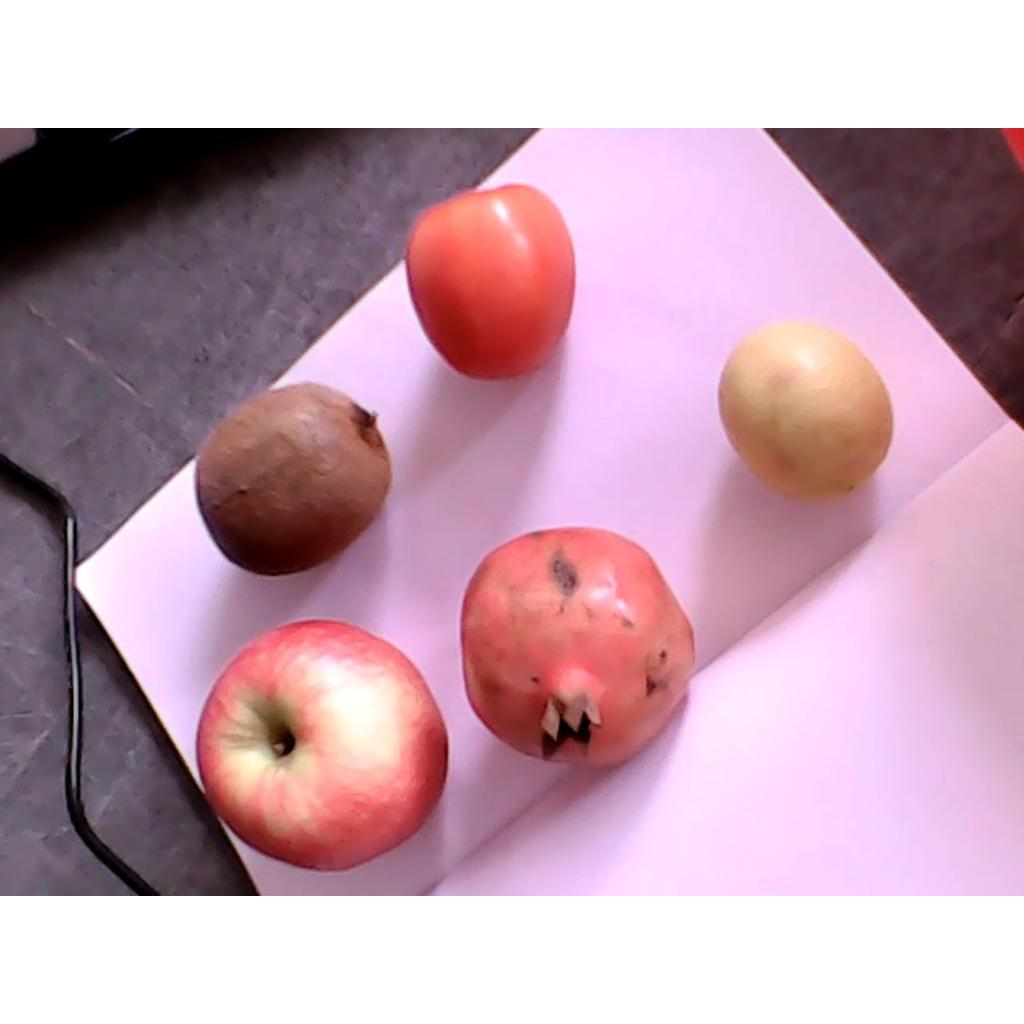apple: (196, 619, 446, 871)
kiwi: (199, 384, 391, 576)
lemon: (722, 328, 890, 503)
pomegranate: (462, 528, 695, 765)
tomato: (405, 181, 573, 379)
